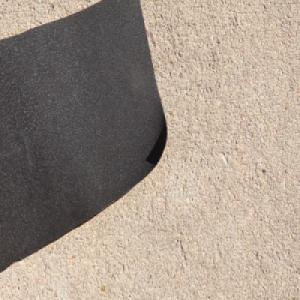PaintChip: (4, 0, 180, 271)
